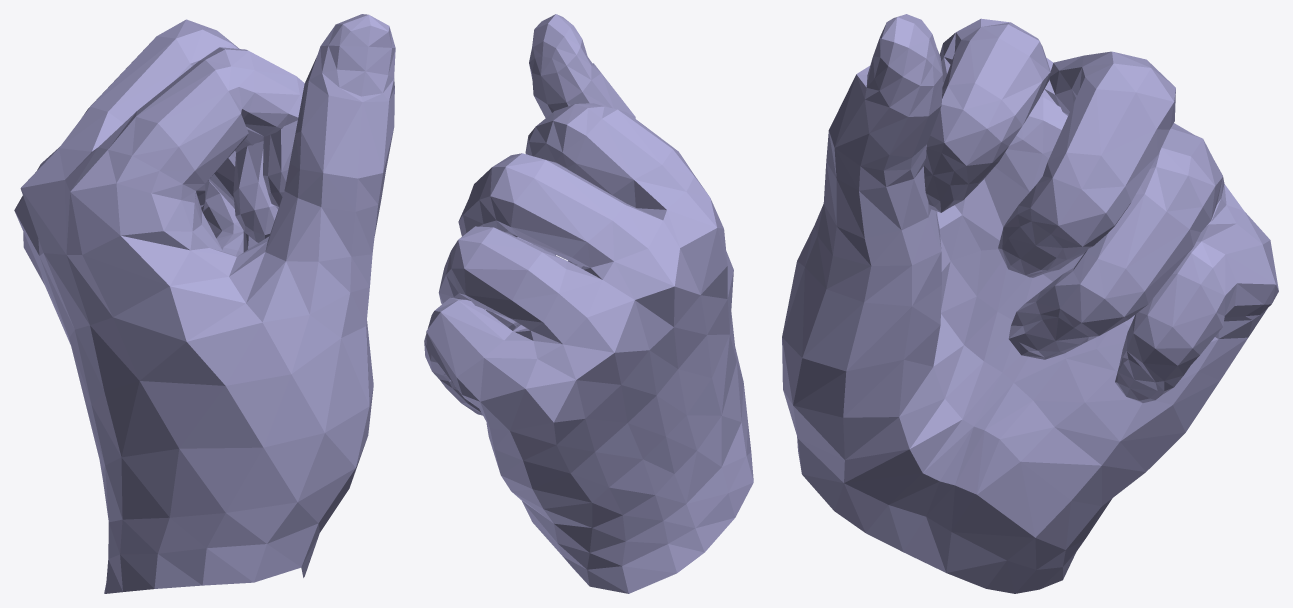
File: frame_0037_source_000037_hand.glb
3 renders of one model, left to right at view 1: azimuth 30°, elevation 25°; view 2: azimuth 150°, elevation 25°; view 3: azimuth 270°, elevation 25°, orthographic. The views are drawn at different scales.
Visible parts, largest first — view 1: world; view 2: world; view 3: world.
Boxes of the visible parts, x1,y1,x2,y2 form: world: (14, 14, 395, 593); world: (424, 14, 753, 593); world: (782, 14, 1278, 593).
Size of the model in its own units: 0.062 by 0.1261 by 0.091.
